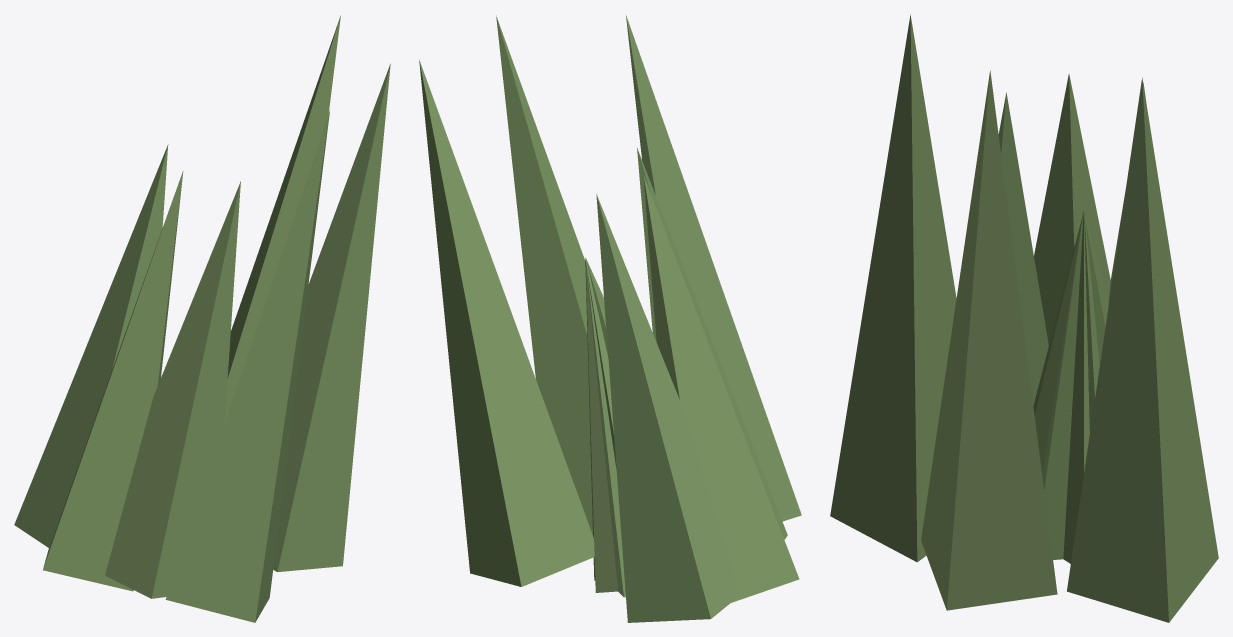
File: foliage_grass_green.glb
The picture shows the model from 3 angles, left to right: view 1: azimuth 30°, elevation 25°; view 2: azimuth 150°, elevation 25°; view 3: azimuth 270°, elevation 25°; orthographic projection. The views are drawn at different scales.
Parts seen in each view (by area): view 1: scenery_leaf; view 2: scenery_leaf; view 3: scenery_leaf.
Part boxes in pixels (x1,y1,x2,y2): scenery_leaf: (14,15,390,622); scenery_leaf: (419,15,801,622); scenery_leaf: (830,14,1218,622).
Bounding box in the file's own units: 0.7028 × 0.9655 × 0.58.
